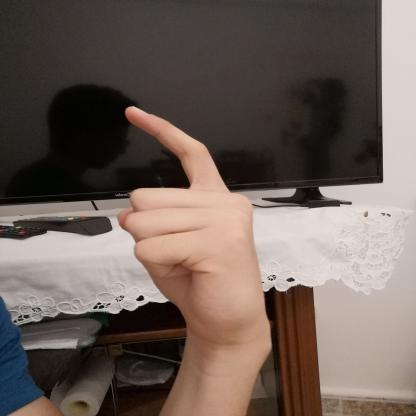RAA: (104, 96, 284, 348)
